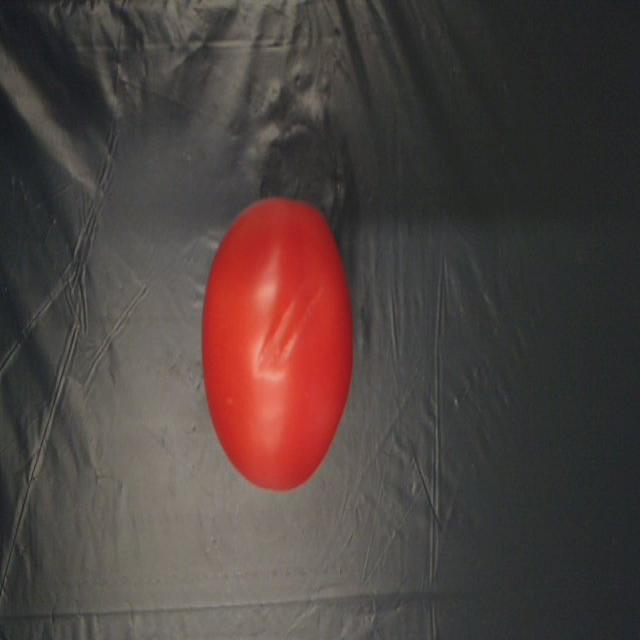kirmizi: (205, 188, 358, 503)
